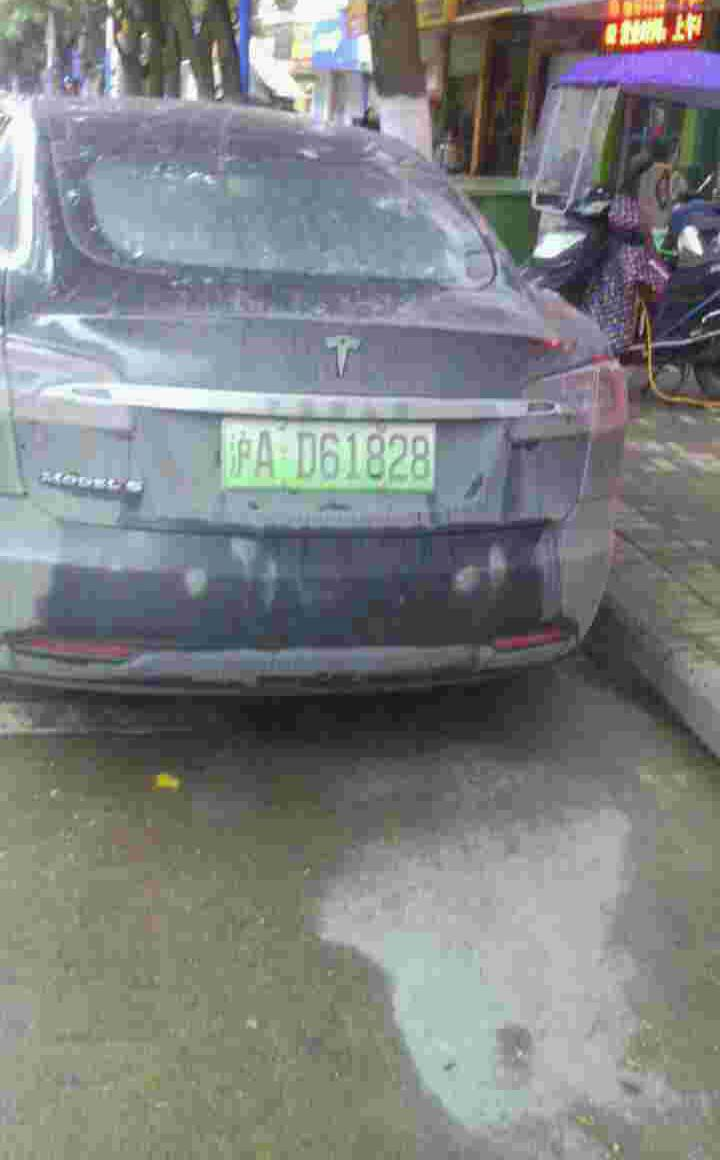car_green: (221, 418, 439, 487)
